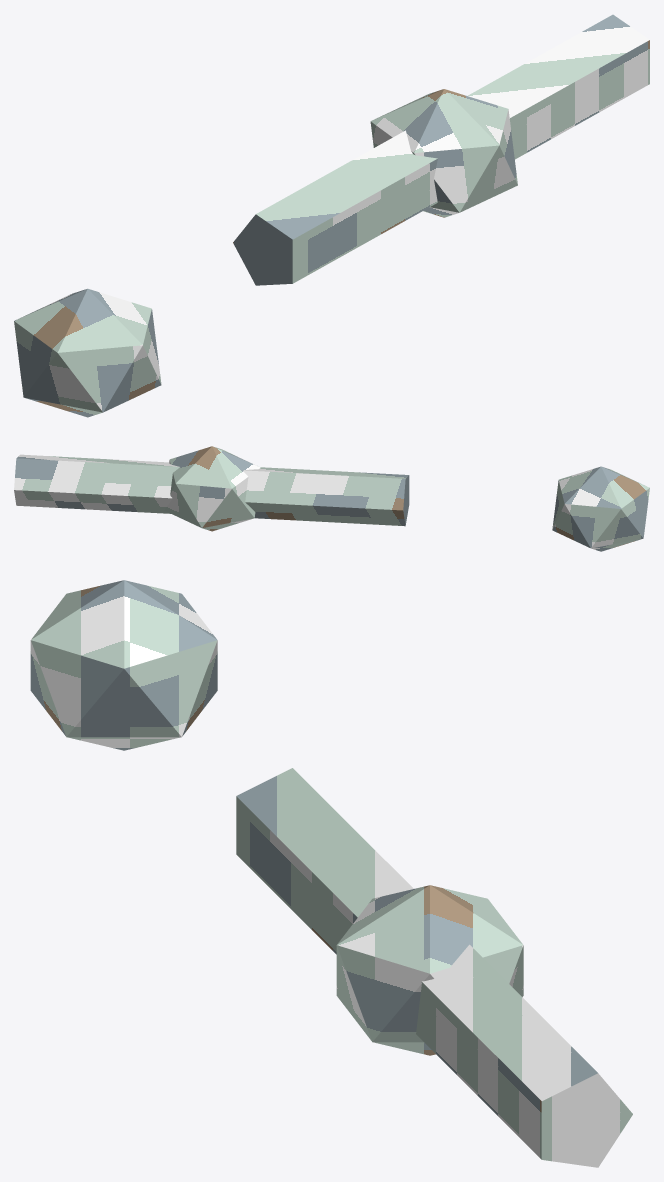
Rendered from r04_osso_1.glb.
3 views of the same model, one above another, from view 1: azimuth 30°, elevation 25°; view 2: azimuth 150°, elevation 25°; view 3: azimuth 270°, elevation 25° (orthographic). The views are drawn at different scales.
Parts seen in each view (by area): view 1: r04_osso_1; view 2: r04_osso_1; view 3: r04_osso_1.
Part boxes in pixels (box(x1,y1,x2,y2)): r04_osso_1: box(14, 14, 649, 417); r04_osso_1: box(14, 446, 649, 551); r04_osso_1: box(30, 580, 632, 1167).
Size of the model in its own units: 1.53 by 0.24 by 0.768.
Materials: 1 (1 with a texture image).
